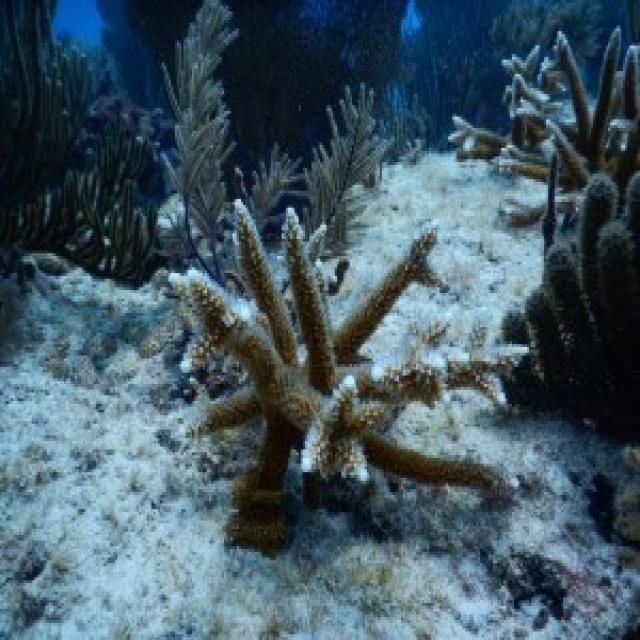Healthy: (176, 200, 504, 553), (496, 170, 640, 421), (500, 27, 639, 246), (163, 1, 238, 277), (1, 1, 74, 246), (304, 83, 391, 257), (449, 47, 562, 160), (74, 157, 157, 280), (236, 143, 300, 240)
